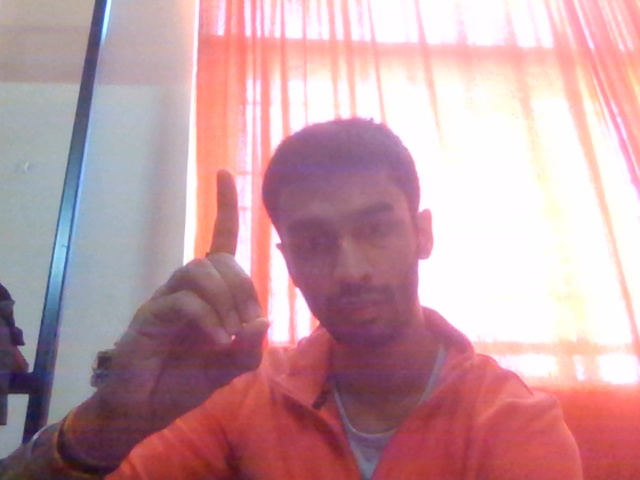D: (103, 173, 279, 442)
